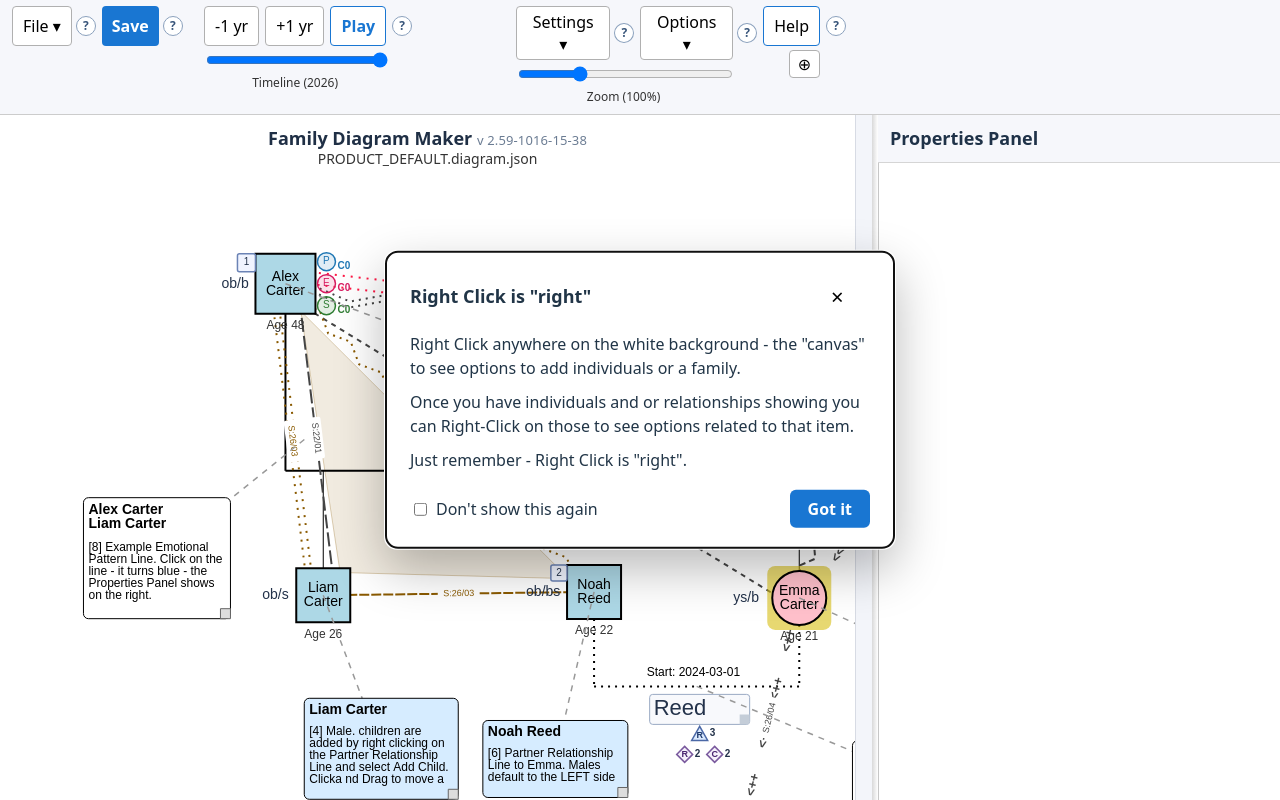
Test: DiagramEditor › opens ribbon help from the File question button
Click the button named "file help". click: (86,26)
box: [76,16,96,36]
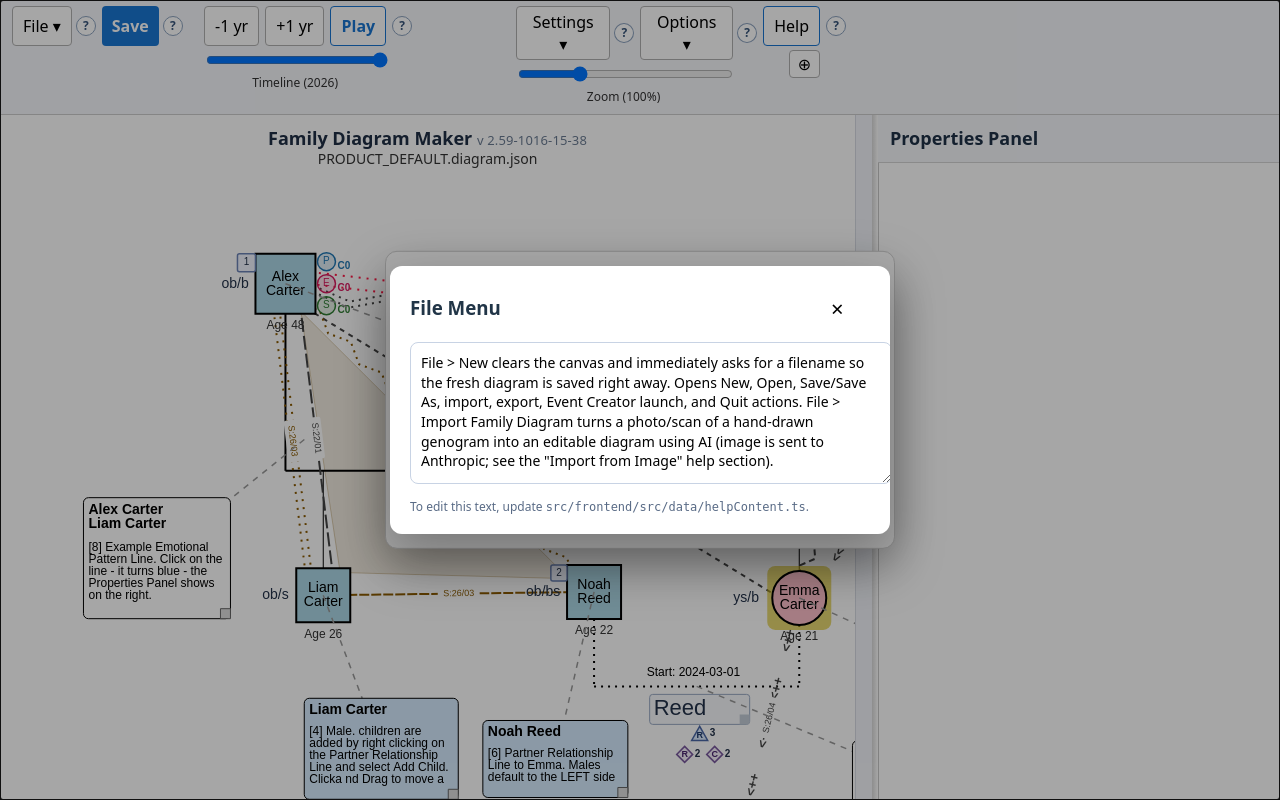
Result: the dialog named "ribbon help" is shown
Result: the text box showing "new, open, save/save as, import, export" is shown at [410,342,890,484]
